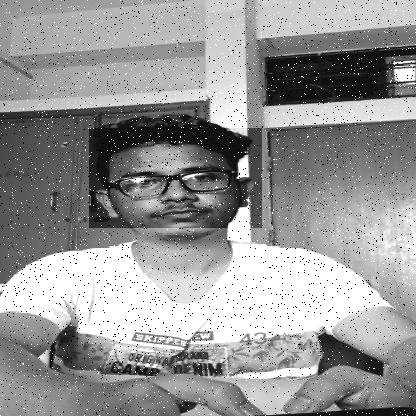Normal: (89, 128, 262, 228)
